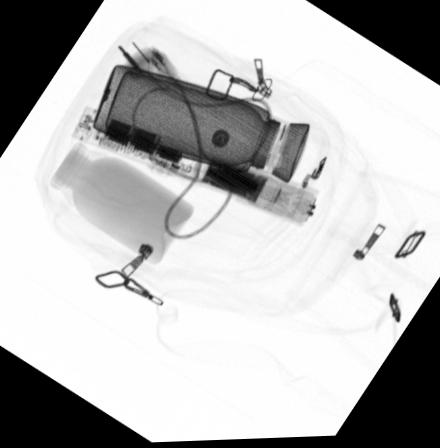Baton: (69, 104, 320, 232)
